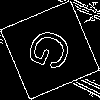G: (25, 25, 83, 79)
